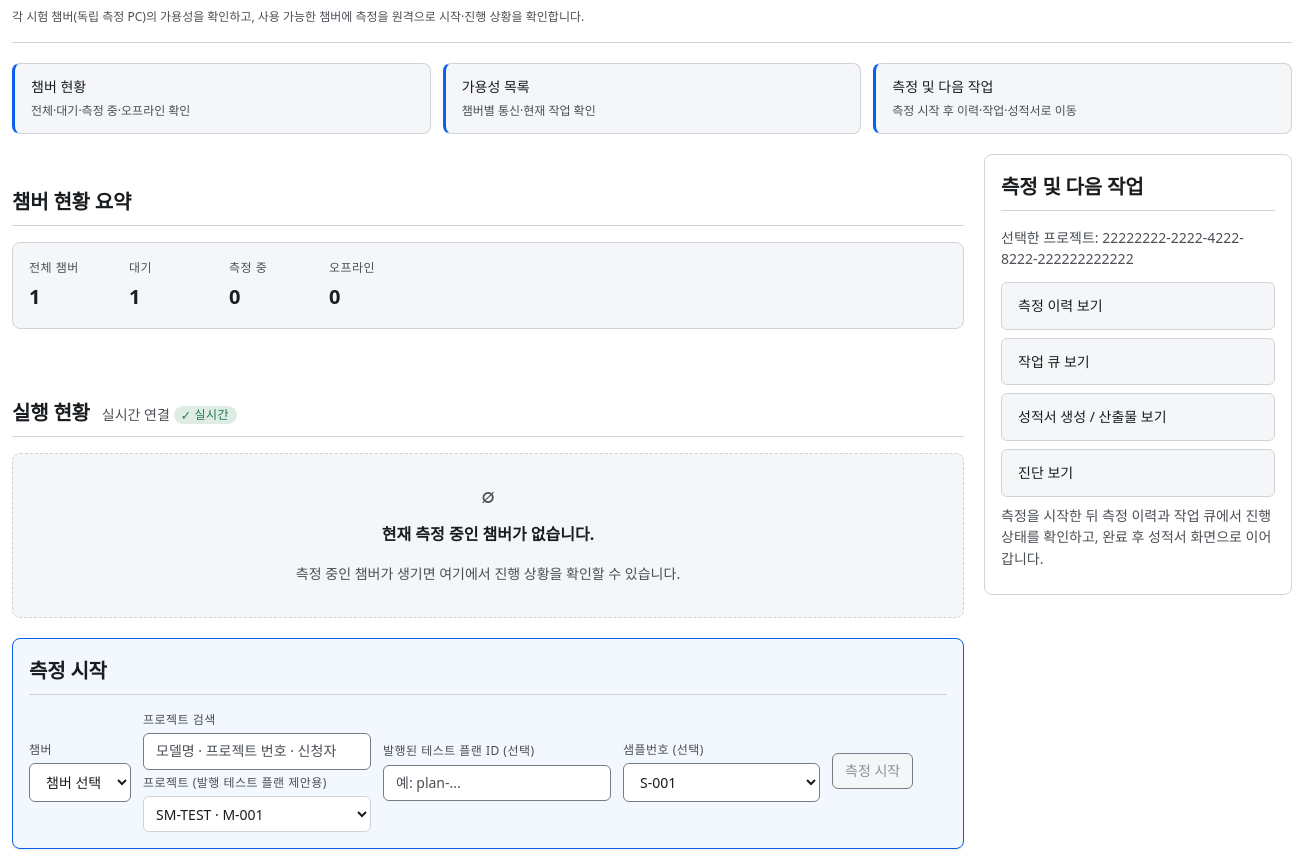
Test case: chamber start failure recovery guidance › links to diagnostics on an unknown server failure (500)
expect the form with test id "chambers-start-form" is shown: met, box x1=29 y1=711 x2=947 y2=832
Select "Free" in the dropdown with test id "chambers-start-select": (80, 783) x1=29 y1=763 x2=131 y2=802
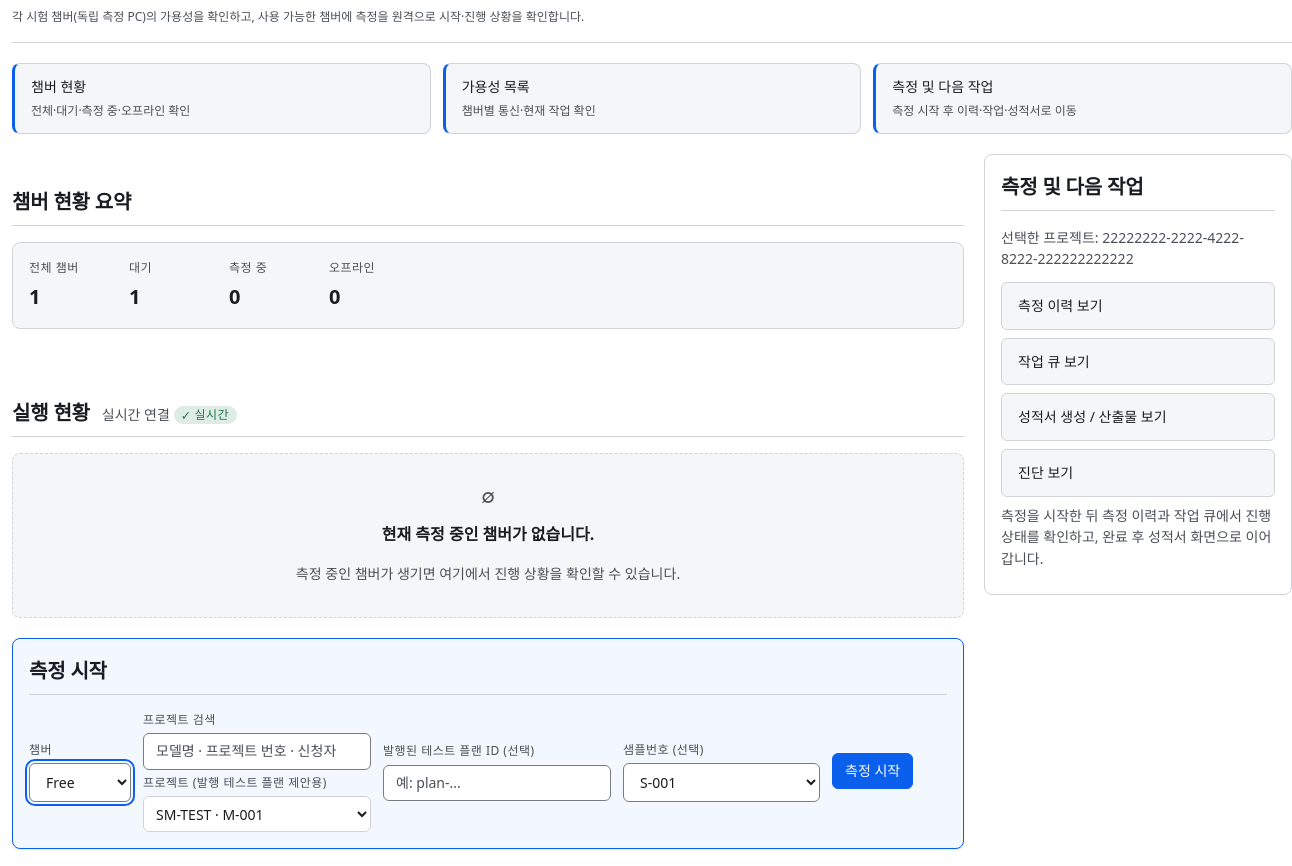
Click the button with test id "chambers-start-submit": (873, 771) x1=832 y1=753 x2=913 y2=789
(page scrolled)
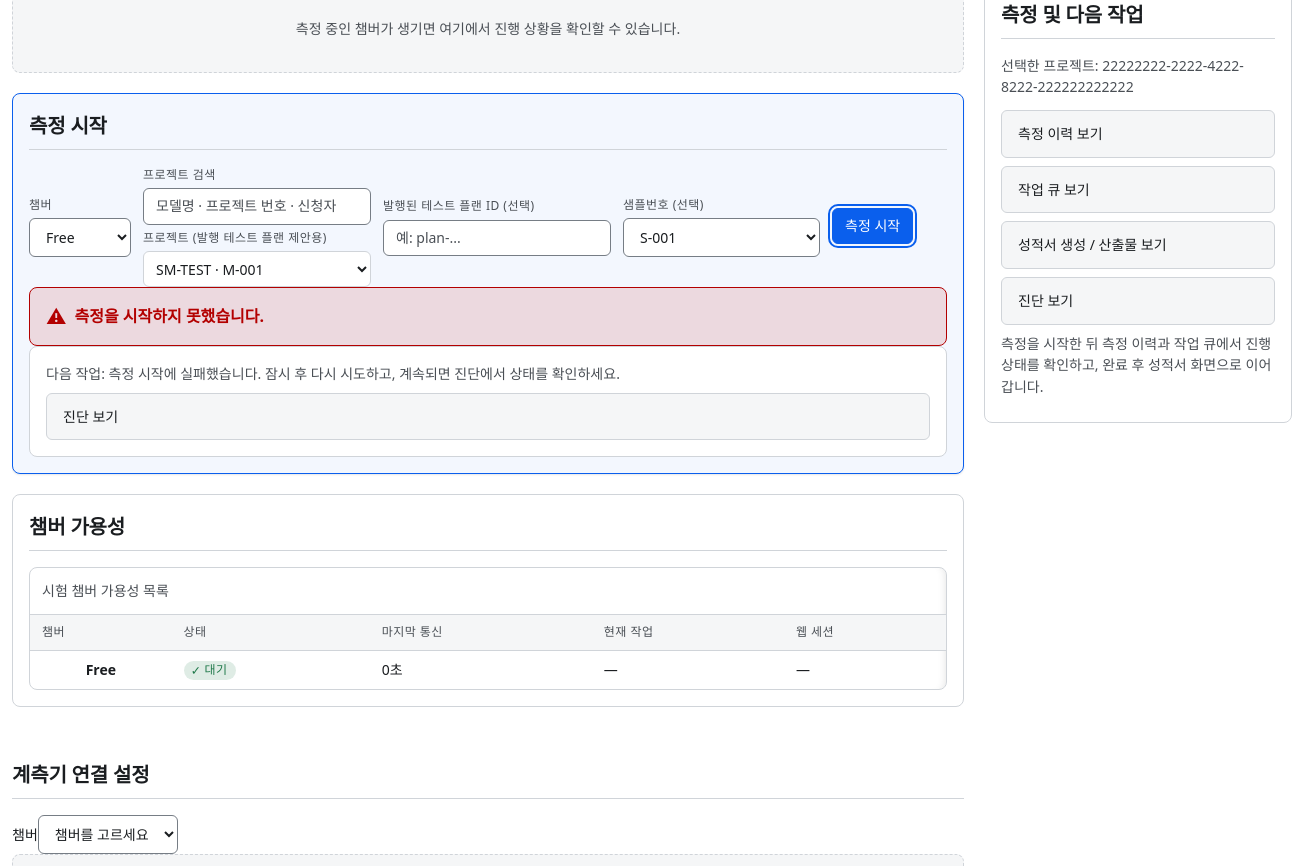
expect the message "측정을 시작하지 못했습니다." is shown: met, box x1=29 y1=287 x2=947 y2=346
